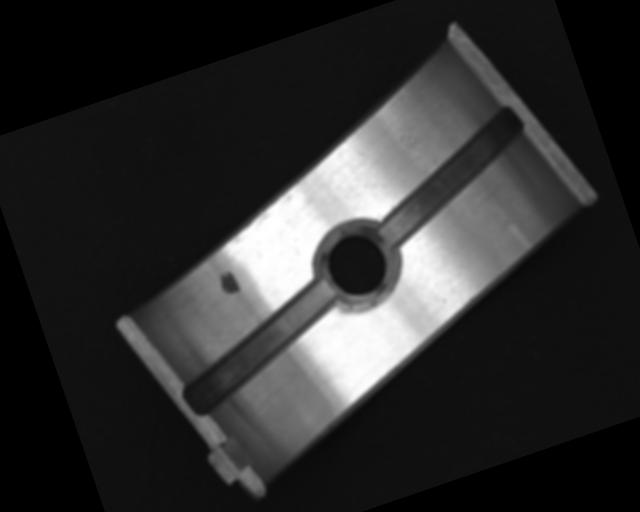blot: (216, 268, 242, 300)
gap: (353, 104, 548, 252), (163, 273, 355, 418)
hole: (312, 218, 405, 318)
